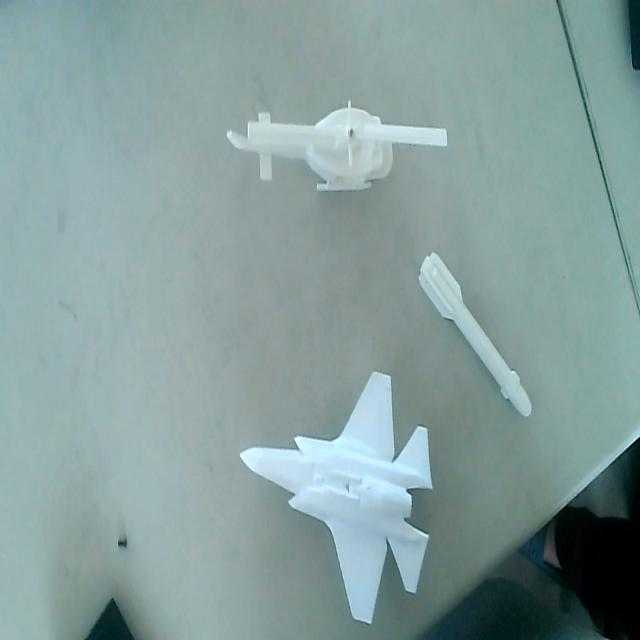Helicopter: (226, 101, 451, 208)
Jet: (238, 366, 434, 628)
Rocket: (417, 244, 533, 425)
